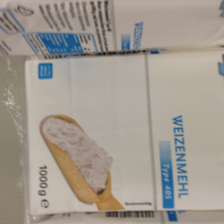flour: (23, 49, 224, 219)
